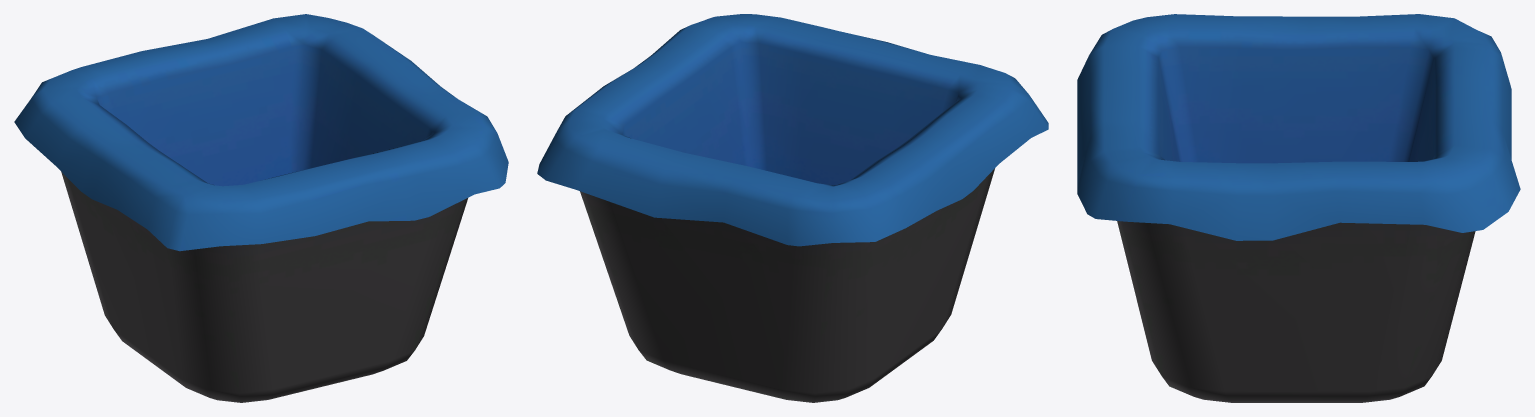
The model's file is trash_counter.glb.
3 views of the same model, side by side, from view 1: azimuth 30°, elevation 25°; view 2: azimuth 150°, elevation 25°; view 3: azimuth 270°, elevation 25° (orthographic). The views are drawn at different scales.
Visible parts, largest first — view 1: trash bin; view 2: trash bin; view 3: trash bin.
Boxes of the visible parts, x1,y1,x2,y2 form: trash bin: [14, 14, 508, 402]; trash bin: [537, 14, 1048, 402]; trash bin: [1077, 14, 1520, 402].
Bounding box in the file's own units: 1.84 × 1.19 × 1.83.
1 material, 1 textured.
